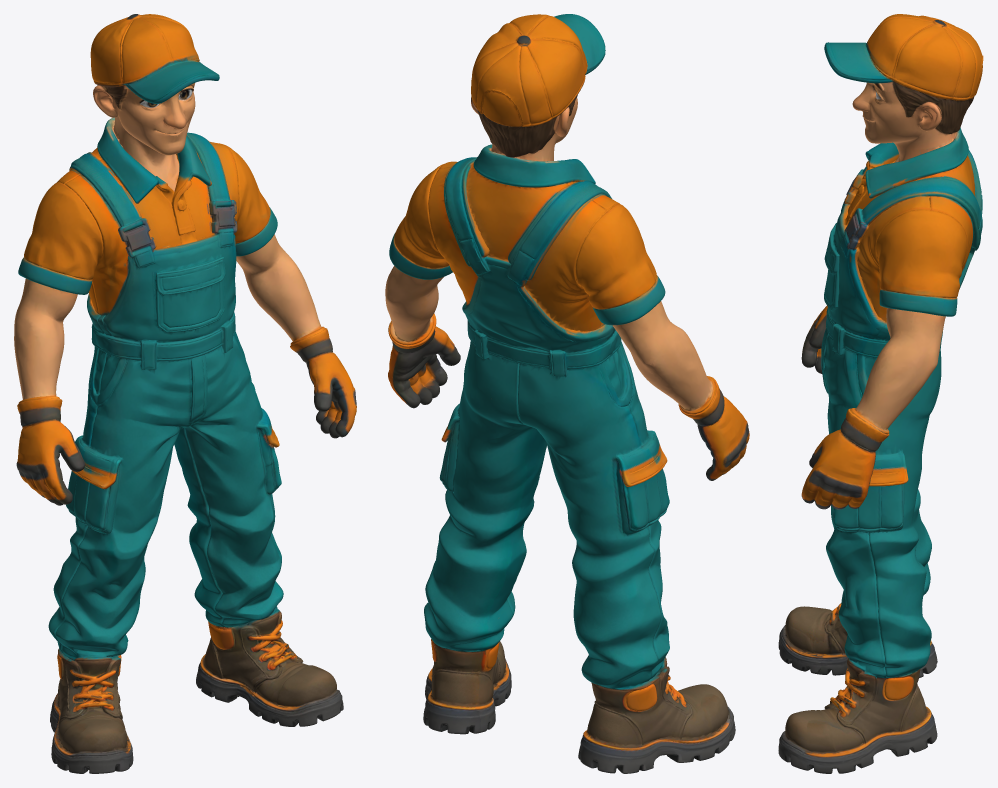
File: ConstructionWorker.glb
3 renders of one model, left to right at view 1: azimuth 30°, elevation 25°; view 2: azimuth 150°, elevation 25°; view 3: azimuth 270°, elevation 25°, orthographic. The views are drawn at different scales.
Parts seen in each view (by area): view 1: tripo_node_103dfcc2-107b-4a5c-b7d8-23292098fdca; view 2: tripo_node_103dfcc2-107b-4a5c-b7d8-23292098fdca; view 3: tripo_node_103dfcc2-107b-4a5c-b7d8-23292098fdca.
Part boxes in pixels (bbox=[...]): tripo_node_103dfcc2-107b-4a5c-b7d8-23292098fdca: bbox=[14, 14, 356, 773]; tripo_node_103dfcc2-107b-4a5c-b7d8-23292098fdca: bbox=[385, 14, 749, 773]; tripo_node_103dfcc2-107b-4a5c-b7d8-23292098fdca: bbox=[778, 14, 983, 773].
Size of the model in its own units: 0.4837 by 0.9785 by 0.2634.
1 material, 1 textured.
